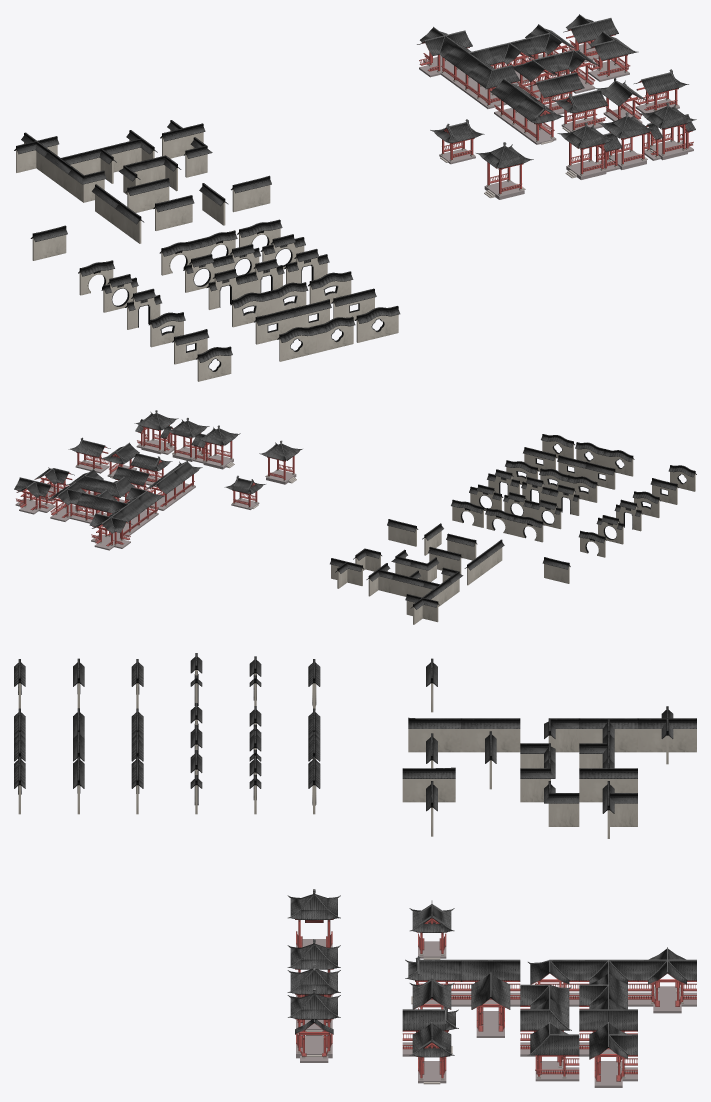
File: Wall.fbx
3 renders of one model, top to bottom at view 1: azimuth 30°, elevation 25°; view 2: azimuth 150°, elevation 25°; view 3: azimuth 270°, elevation 25°, orthographic. The views are drawn at different scales.
Parts seen in each view (by area): view 1: Pavilion_0-3, Pavilion_0-1, Pavilion_0-2, Pavilion_0-0, Gallery-15, Gallery-10, Gallery-2, Gallery-1, Gallery-11, Gallery-4, Gallery-7, Gallery-0 (+48 smaller); view 2: Pavilion_0-3, Gallery-15, Pavilion_0-1, Gallery-14, Pavilion_0-2, Pavilion_0-0, Gallery-13, Gallery-4, Wall-15, Gallery-12, Gallery-11, Gallery-5 (+48 smaller); view 3: Gallery-15, Pavilion_0-3, Gallery-14, Gallery-10, Wall-15, Gallery-6, Wall-5, Gallery-4, Gallery-5, Gallery-13, Wall-13, Wall-1 (+20 smaller).
Part boxes in pixels (x1=…): Pavilion_0-3: x1=639, y1=102, x2=696, y2=160; Pavilion_0-1: x1=557, y1=122, x2=615, y2=179; Pavilion_0-2: x1=598, y1=112, x2=655, y2=170; Pavilion_0-0: x1=476, y1=142, x2=533, y2=199; Gallery-15: x1=417, y1=26, x2=472, y2=78; Gallery-10: x1=586, y1=31, x2=638, y2=81; Gallery-2: x1=552, y1=89, x2=607, y2=132; Gallery-1: x1=514, y1=95, x2=564, y2=144; Gallery-11: x1=443, y1=44, x2=496, y2=96; Gallery-4: x1=634, y1=69, x2=688, y2=113; Gallery-7: x1=467, y1=61, x2=520, y2=108; Gallery-0: x1=430, y1=119, x2=484, y2=164; Pavilion_0-3: x1=134, y1=410, x2=178, y2=454; Gallery-15: x1=89, y1=510, x2=132, y2=550; Pavilion_0-1: x1=197, y1=425, x2=240, y2=469; Gallery-14: x1=14, y1=477, x2=56, y2=514; Pavilion_0-2: x1=166, y1=417, x2=209, y2=462; Pavilion_0-0: x1=259, y1=440, x2=302, y2=484; Gallery-13: x1=47, y1=482, x2=85, y2=521; Gallery-4: x1=68, y1=437, x2=110, y2=473; Wall-15: x1=405, y1=591, x2=439, y2=624; Gallery-12: x1=76, y1=489, x2=116, y2=526; Gallery-11: x1=107, y1=497, x2=147, y2=536; Gallery-5: x1=145, y1=471, x2=183, y2=510; Gallery-15: x1=638, y1=947, x2=696, y2=1013; Pavilion_0-3: x1=287, y1=988, x2=340, y2=1062; Gallery-14: x1=589, y1=1022, x2=637, y2=1087; Gallery-10: x1=528, y1=1022, x2=579, y2=1081; Wall-15: x1=638, y1=706, x2=696, y2=764; Gallery-6: x1=471, y1=972, x2=510, y2=1037; Wall-5: x1=461, y1=718, x2=520, y2=752; Gallery-4: x1=409, y1=1022, x2=454, y2=1084; Gallery-5: x1=461, y1=959, x2=520, y2=1006; Gallery-13: x1=579, y1=997, x2=637, y2=1056; Wall-13: x1=579, y1=756, x2=637, y2=802; Wall-1: x1=408, y1=717, x2=461, y2=752.
Bounding box in the file's own units: 7950 × 577 × 5800.
